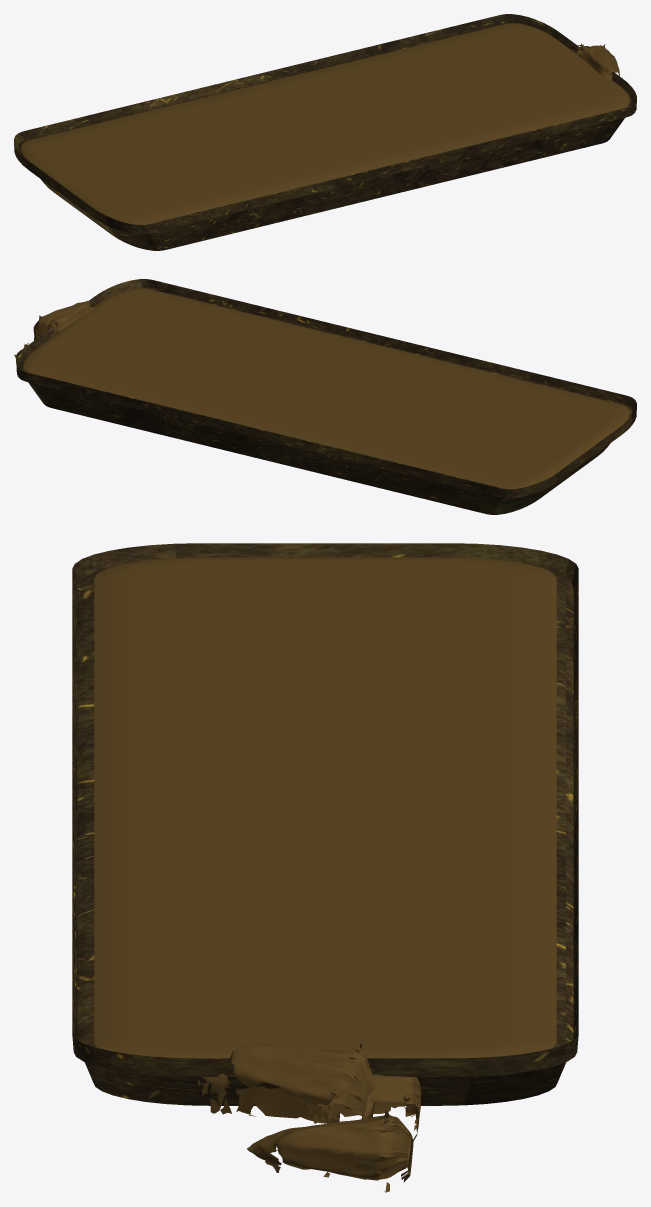
The model's file is GrassTerrain_base_textured.glb.
3 views of the same model, one above another, from view 1: azimuth 30°, elevation 25°; view 2: azimuth 150°, elevation 25°; view 3: azimuth 270°, elevation 25° (orthographic). The views are drawn at different scales.
Visible parts, largest first — view 1: 立方体; view 2: 立方体; view 3: 立方体.
Part boxes in pixels (box(x1,y1,x2,y2)): 立方体: box(14, 14, 636, 250); 立方体: box(14, 279, 636, 514); 立方体: box(72, 543, 578, 1192).
Size of the model in its own units: 1706 by 210 by 665.
Materials: 2 (1 with a texture image).
